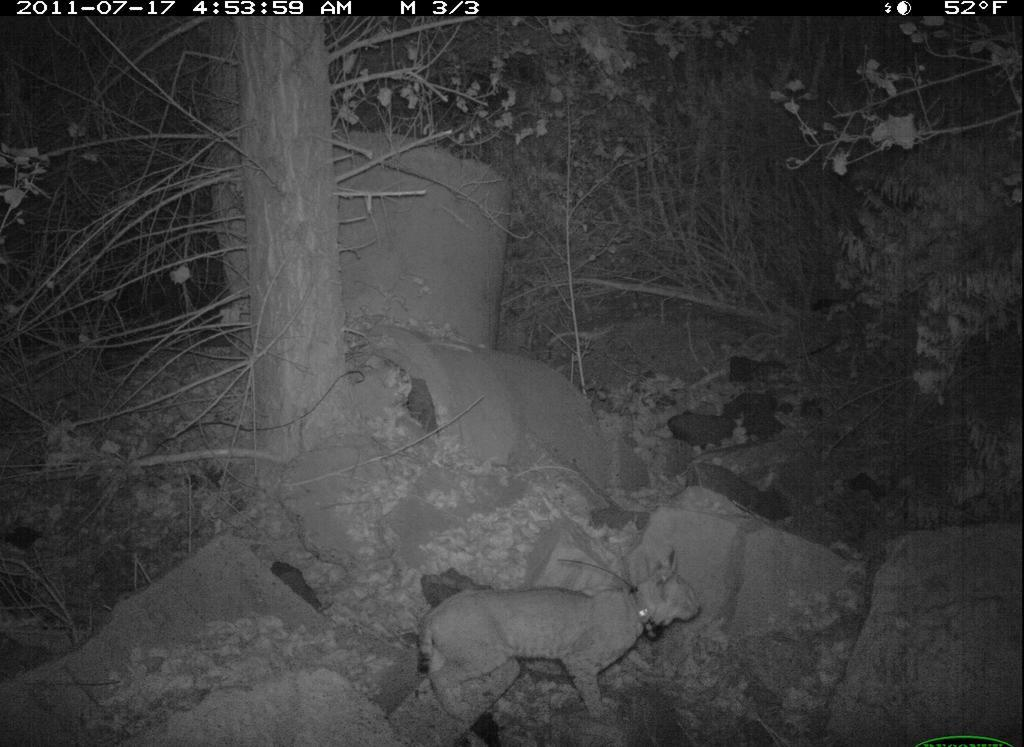bobcat: (372, 533, 786, 744)
